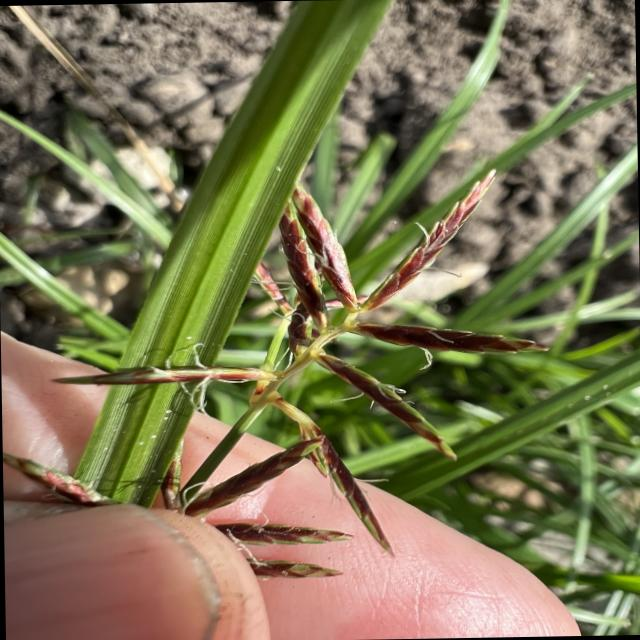cyperus: (0, 147, 551, 599)
